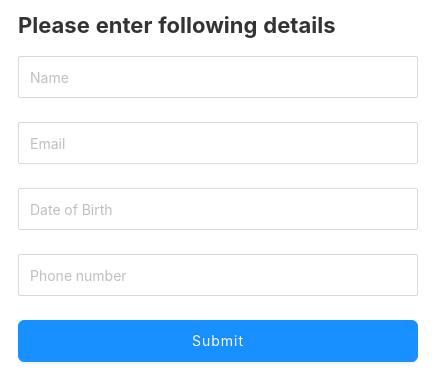
Test: phone number only accepts valid input
Type "+918666666666" into the field with test id "phone-input" at (218, 275), box [18,254,418,296]
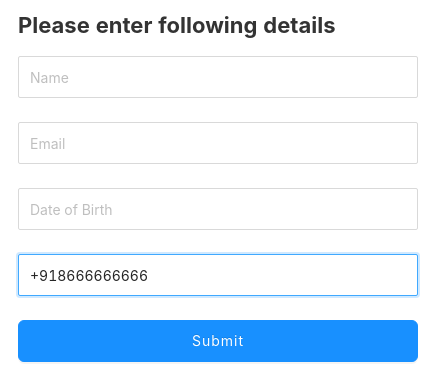
Click the button with test id "submit-btn" at (218, 341), box [18,320,418,362]
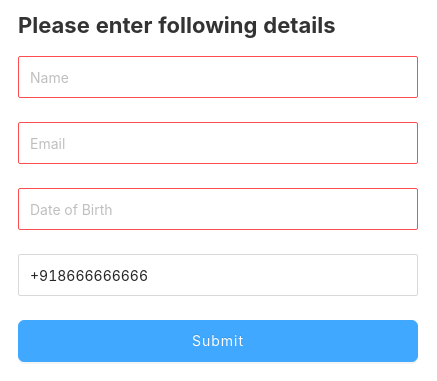
Check: the number of messages is 3, box [18,95,174,112]; [18,161,182,178]; [18,227,218,244]
Type "86645" into the field with test id "phone-input" at (218, 275), box [18,254,418,296]
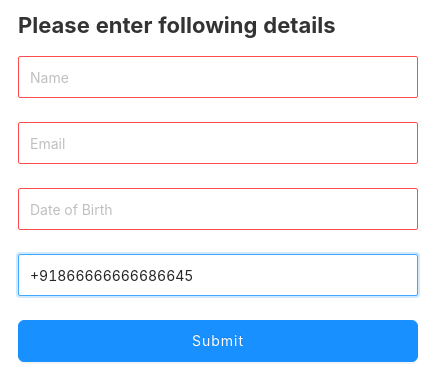
Click the button with test id "submit-btn" at (218, 341), box [18,320,418,362]
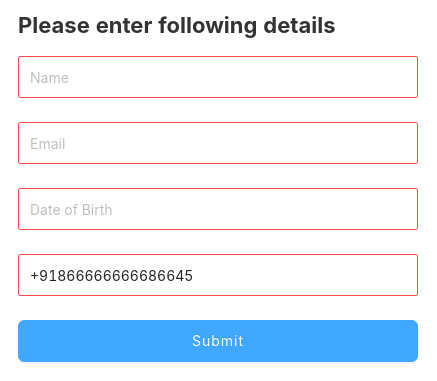
Type "55859345345344" into the field with test id "phone-input" at (218, 275), box [18,254,418,296]
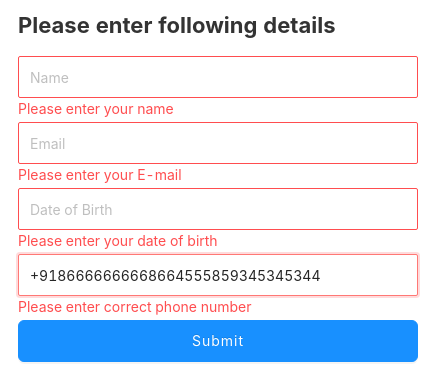
Check: the text "Please enter correct phone number" is shown, box [18,298,252,315]
